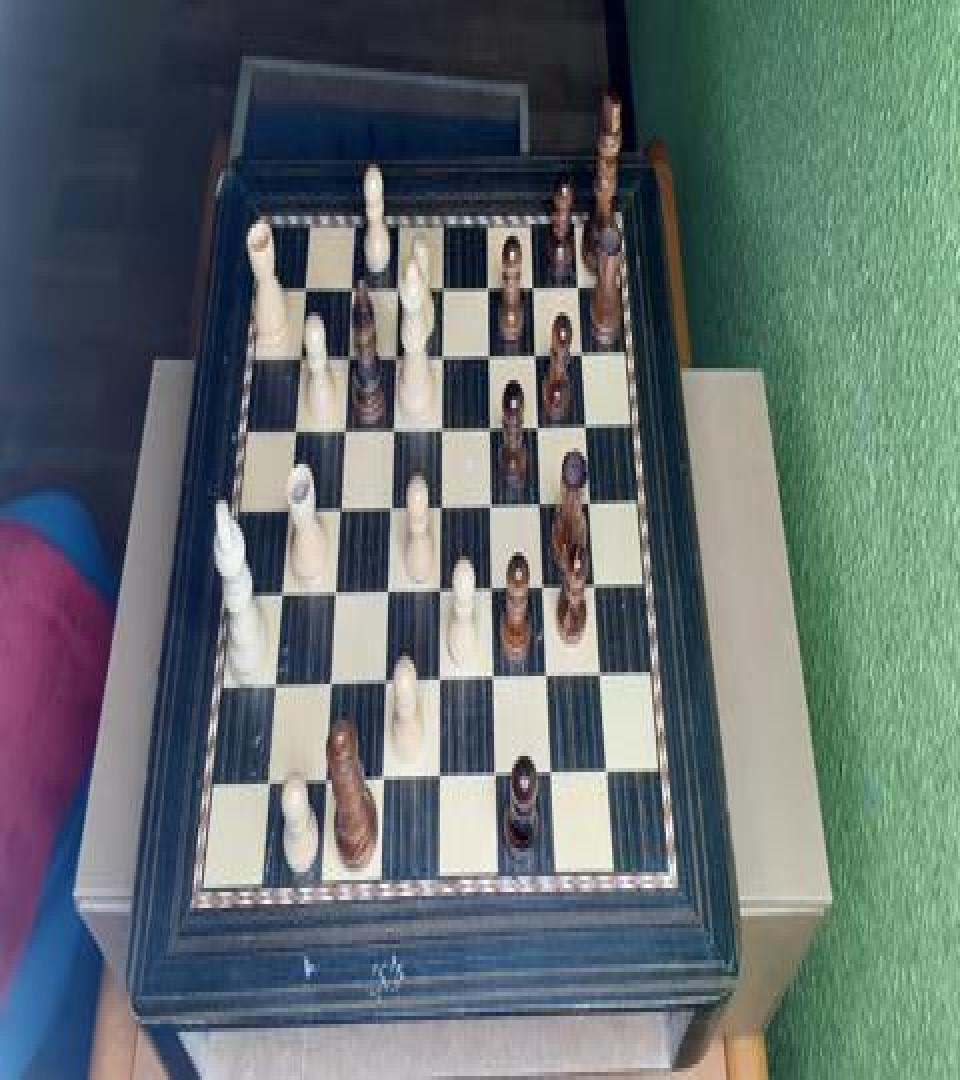xcorner: (572, 270, 586, 298), (526, 270, 540, 298), (481, 270, 495, 298), (435, 270, 449, 298), (389, 270, 403, 298), (342, 272, 356, 300), (296, 272, 310, 300), (576, 338, 590, 366), (529, 338, 543, 366), (482, 338, 496, 366), (434, 340, 448, 368), (387, 340, 401, 368), (339, 340, 353, 368), (290, 340, 304, 368), (580, 410, 594, 438), (532, 412, 546, 440), (483, 412, 497, 440), (434, 412, 448, 440), (385, 414, 399, 442), (335, 414, 349, 442), (285, 414, 299, 442), (585, 488, 599, 516), (535, 490, 549, 518), (484, 490, 498, 518), (433, 492, 447, 520), (382, 492, 396, 520), (331, 494, 345, 522), (279, 494, 293, 522), (590, 572, 604, 600), (538, 574, 552, 602), (486, 574, 500, 602), (433, 576, 447, 604), (380, 578, 394, 606), (326, 578, 340, 606), (273, 580, 287, 608), (595, 662, 609, 690), (541, 664, 555, 692), (487, 666, 501, 694), (432, 666, 446, 694), (377, 668, 391, 696), (322, 670, 336, 698), (266, 672, 280, 700), (601, 758, 615, 786), (545, 760, 559, 788), (489, 762, 503, 790), (432, 766, 446, 794), (374, 768, 388, 796), (316, 770, 330, 798), (258, 772, 272, 800)
